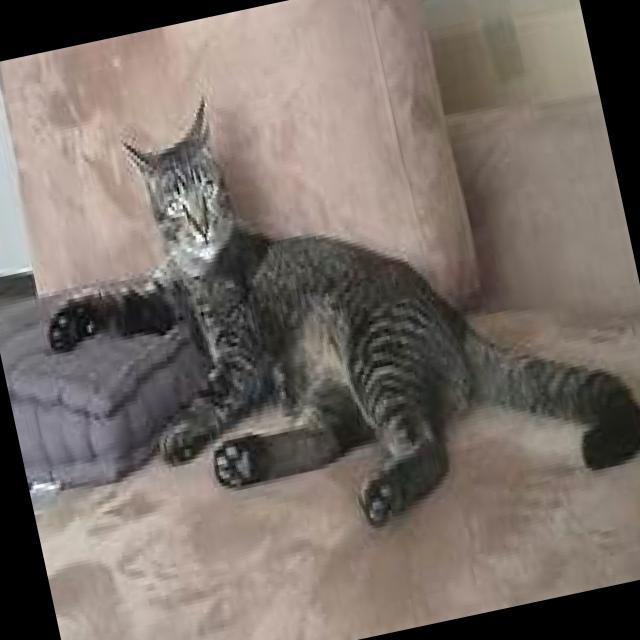animal: (3, 13, 640, 589)
